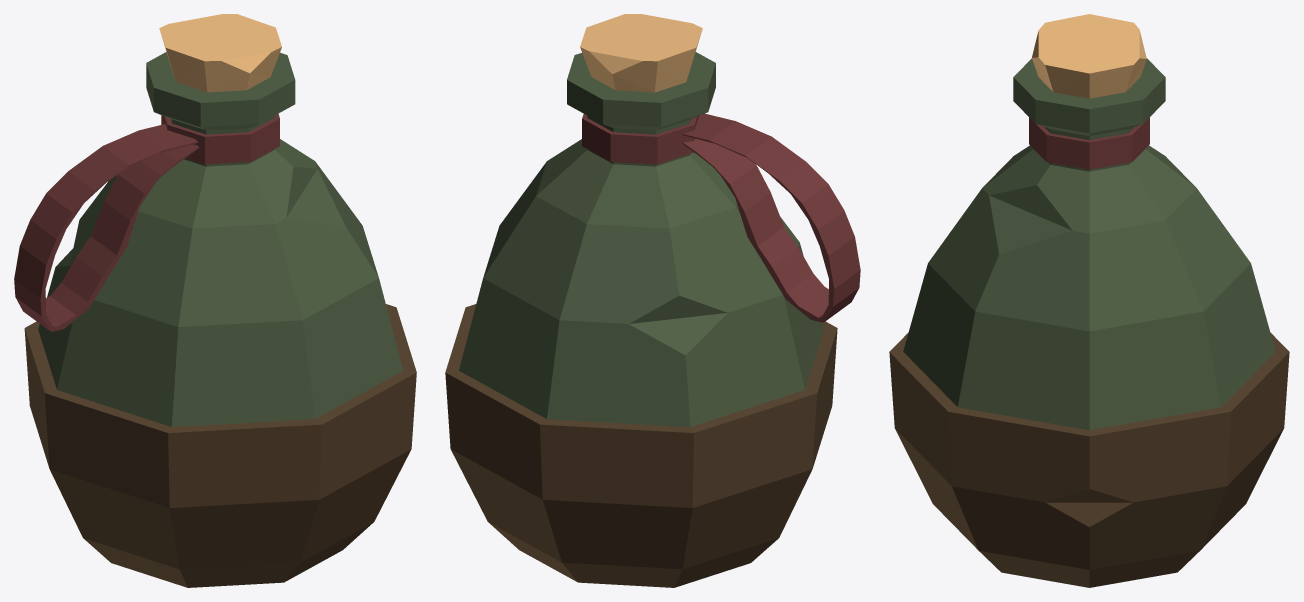
File: SFHW_Jar_016.fbx
The picture shows the model from 3 angles, left to right: view 1: azimuth 30°, elevation 25°; view 2: azimuth 150°, elevation 25°; view 3: azimuth 270°, elevation 25°; orthographic projection.
Parts seen in each view (by area): view 1: SFHW_Jar_016; view 2: SFHW_Jar_016; view 3: SFHW_Jar_016.
Boxes of the visible parts, <box> form: SFHW_Jar_016: <box>14,14,416,587</box>; SFHW_Jar_016: <box>445,14,860,587</box>; SFHW_Jar_016: <box>889,14,1289,587</box>.
Size of the model in its own units: 27.09 by 35.62 by 25.37.
